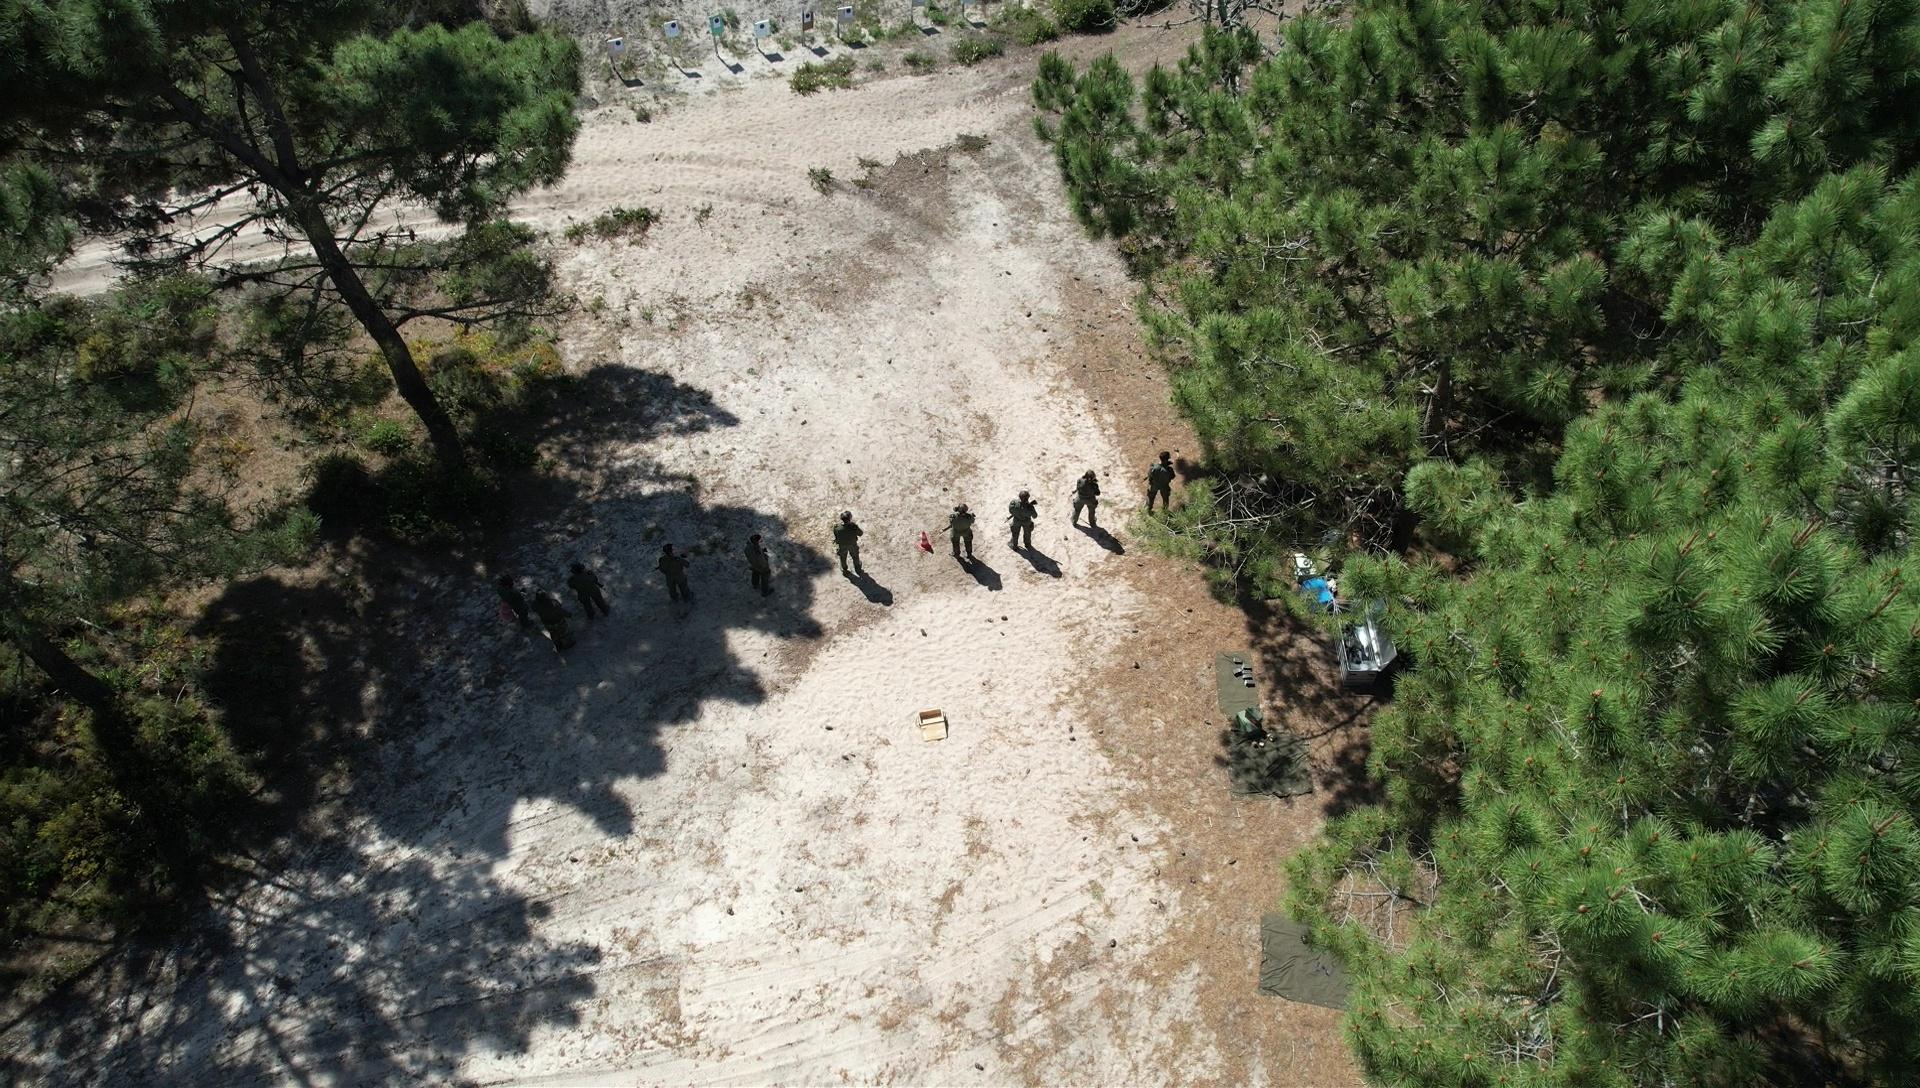Soldier: (736, 520, 790, 609), (818, 506, 876, 589), (997, 484, 1050, 568), (651, 538, 704, 617), (564, 559, 613, 634), (527, 587, 576, 659), (1142, 443, 1185, 522), (942, 501, 982, 578), (493, 572, 538, 630), (1069, 469, 1105, 539)
